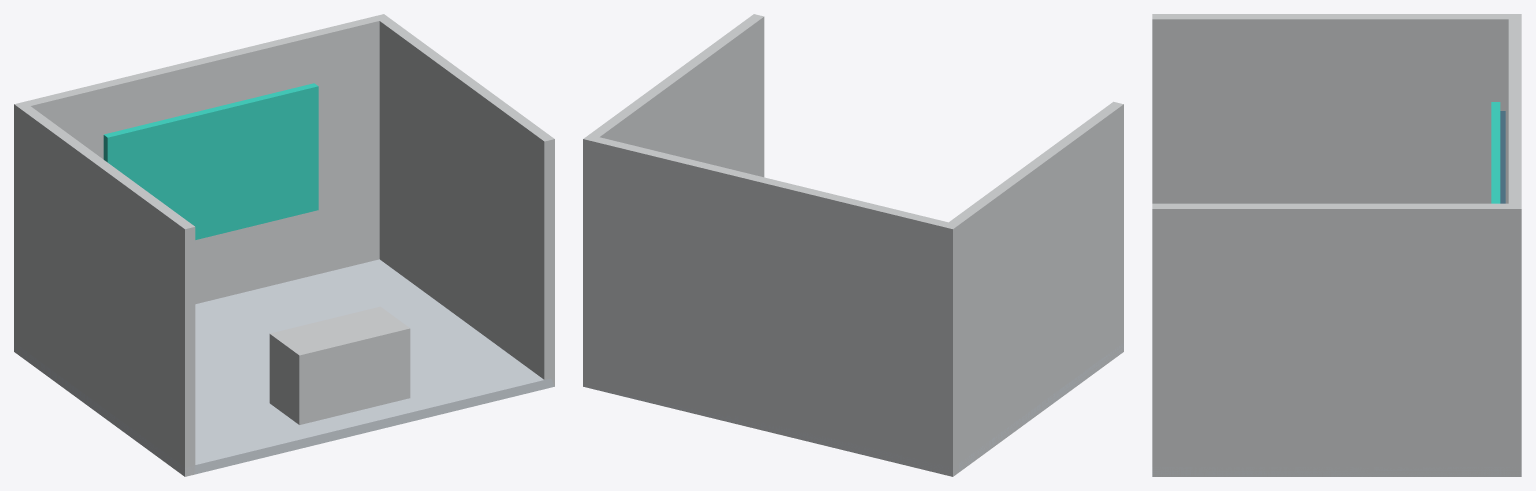
3 views of the same model, side by side, from view 1: azimuth 30°, elevation 25°; view 2: azimuth 150°, elevation 25°; view 3: azimuth 270°, elevation 25° (orthographic). The views are drawn at different scales.
Parts seen in each view (by area): view 1: Exhibition Booth Concept; view 2: Exhibition Booth Concept; view 3: Exhibition Booth Concept.
Boxes of the visible parts, x1,y1,x2,y2 form: Exhibition Booth Concept: (14,14,554,476); Exhibition Booth Concept: (583,14,1123,476); Exhibition Booth Concept: (1152,14,1521,476).
Size of the model in its own units: 5 by 3.2 by 4.
